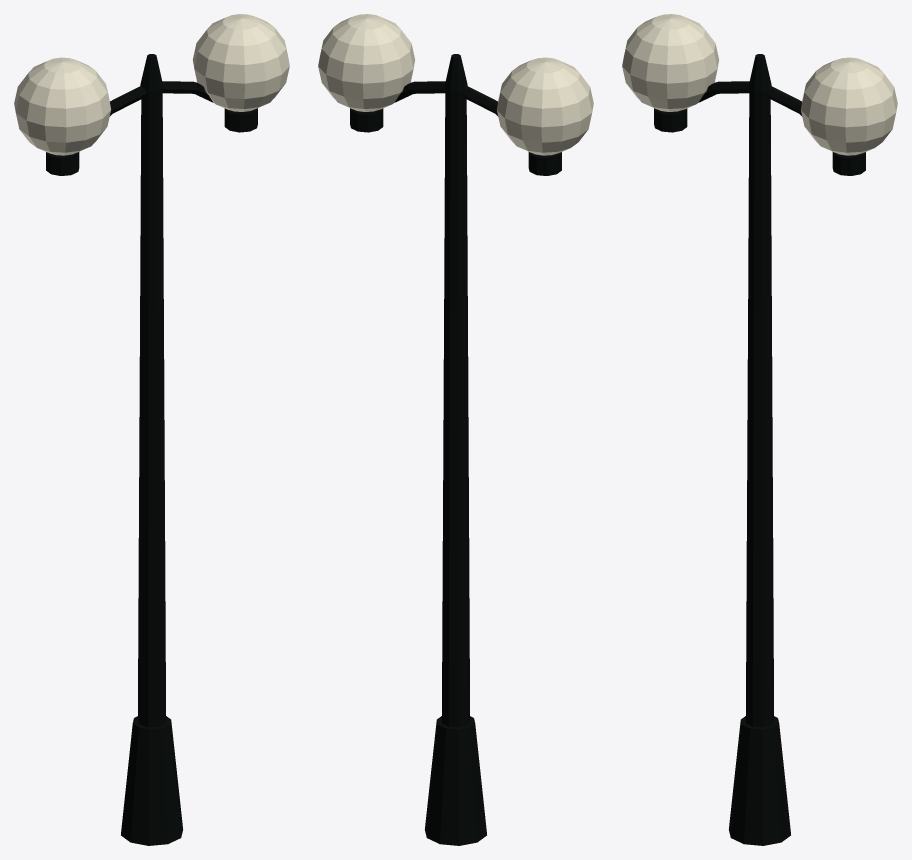
The model's file is lampa-dvije-kugle.glb.
The picture shows the model from 3 angles, left to right: view 1: azimuth 30°, elevation 25°; view 2: azimuth 150°, elevation 25°; view 3: azimuth 330°, elevation 25°; orthographic projection.
Visible parts, largest first — view 1: lampa-dvije-kugle; view 2: lampa-dvije-kugle; view 3: lampa-dvije-kugle.
Boxes of the visible parts, <box> form: lampa-dvije-kugle: <box>14,14,289,845</box>; lampa-dvije-kugle: <box>318,14,593,845</box>; lampa-dvije-kugle: <box>622,14,897,845</box>.
Size of the model in its own units: 1.23 by 3.56 by 0.4.
Materials: 1 (1 with a texture image).
